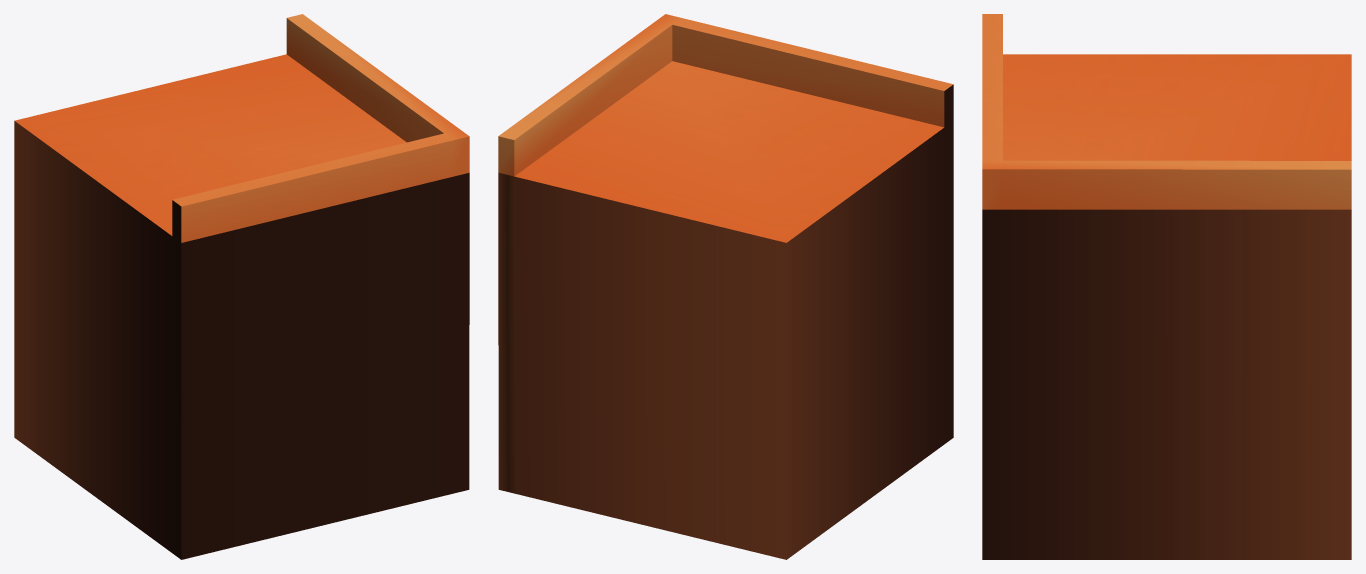
File: counter corner.FBX
3 renders of one model, left to right at view 1: azimuth 30°, elevation 25°; view 2: azimuth 150°, elevation 25°; view 3: azimuth 270°, elevation 25°, orthographic. The views are drawn at different scales.
Parts seen in each view (by area): view 1: corner counter; view 2: corner counter; view 3: corner counter.
Boxes of the visible parts, x1,y1,x2,y2 form: corner counter: (14, 14, 469, 559); corner counter: (498, 14, 953, 559); corner counter: (982, 14, 1351, 559).
Size of the model in its own units: 65.45 by 76.65 by 65.69.
1 material, 1 textured.
